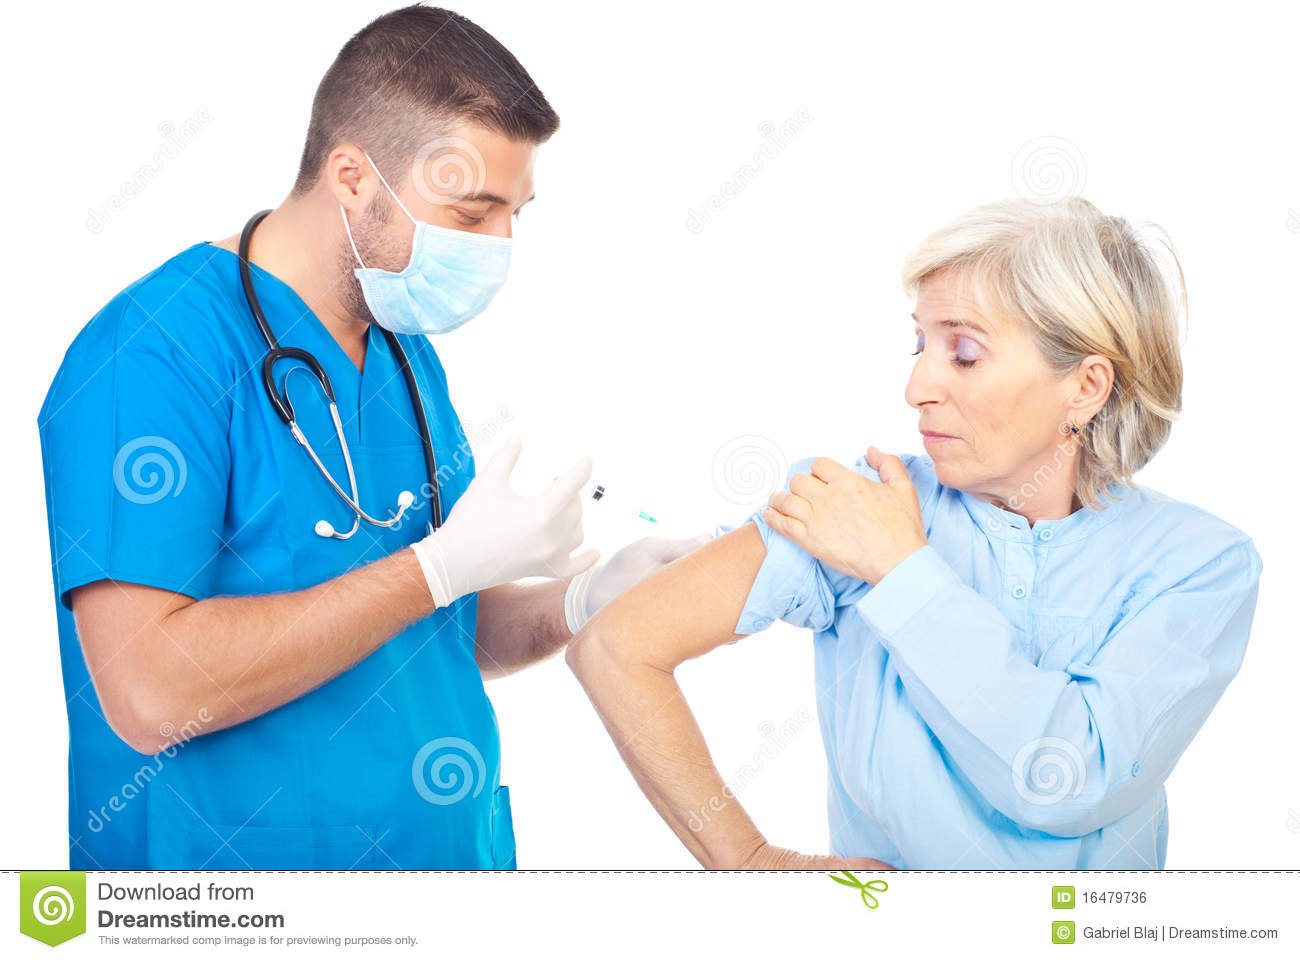mask: (358, 227, 515, 340)
